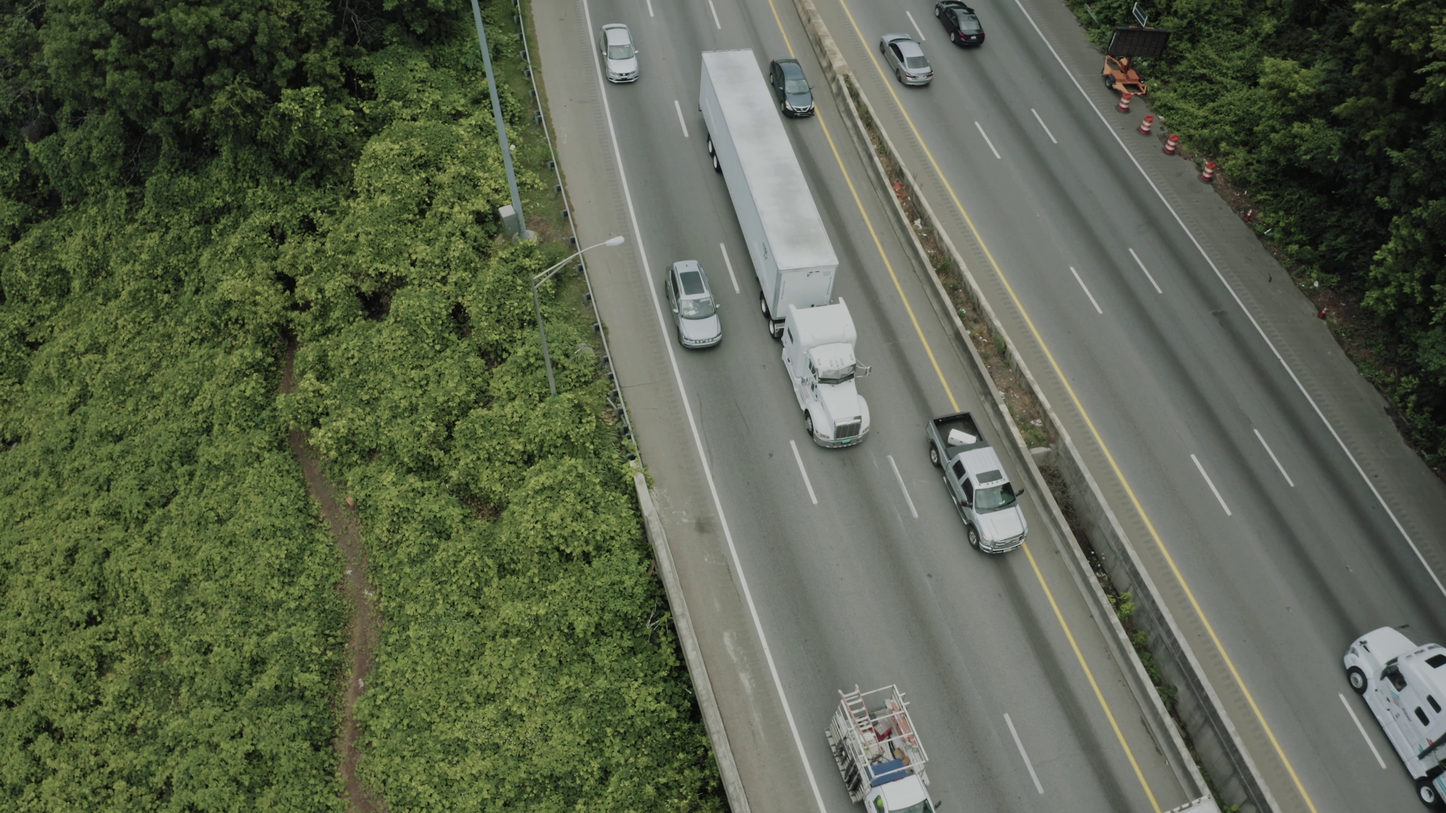Vehicle: (1342, 626, 1446, 803), (925, 411, 1031, 556), (824, 685, 941, 813), (779, 296, 872, 450), (663, 258, 725, 354), (879, 32, 934, 87), (769, 58, 815, 118), (599, 23, 640, 84), (934, 0, 985, 48), (1317, 307, 1328, 320), (1200, 168, 1205, 181)
